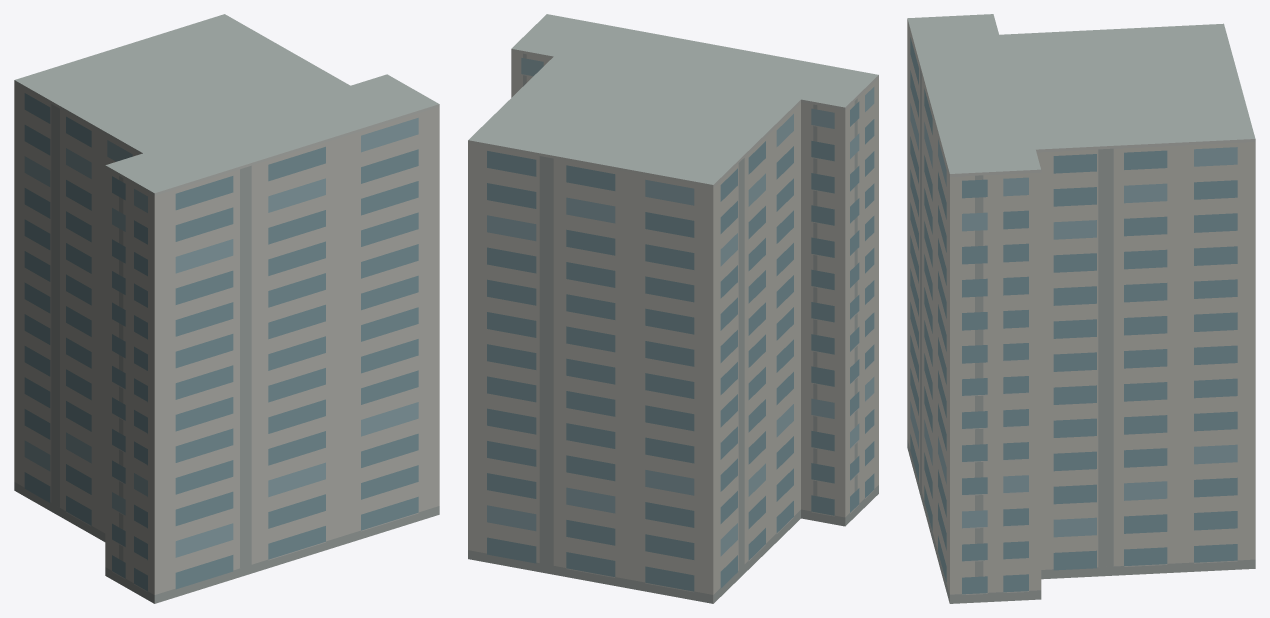
The model's file is residential-6d117ca1-5a1f-4fc4-8c50-338712e5a3ee.glb.
3 views of the same model, side by side, from view 1: azimuth 30°, elevation 25°; view 2: azimuth 150°, elevation 25°; view 3: azimuth 270°, elevation 25° (orthographic). The views are drawn at different scales.
Visible parts, largest first — view 1: residential-6d117ca1-5a1f-4fc4-8c50-338712e5a3ee.tmp; view 2: residential-6d117ca1-5a1f-4fc4-8c50-338712e5a3ee.tmp; view 3: residential-6d117ca1-5a1f-4fc4-8c50-338712e5a3ee.tmp.
Boxes of the visible parts, x1,y1,x2,y2 form: residential-6d117ca1-5a1f-4fc4-8c50-338712e5a3ee.tmp: (14, 14, 439, 603); residential-6d117ca1-5a1f-4fc4-8c50-338712e5a3ee.tmp: (468, 14, 878, 603); residential-6d117ca1-5a1f-4fc4-8c50-338712e5a3ee.tmp: (907, 14, 1255, 603).
Bounding box in the file's own units: 29.55 × 37 × 27.16.
